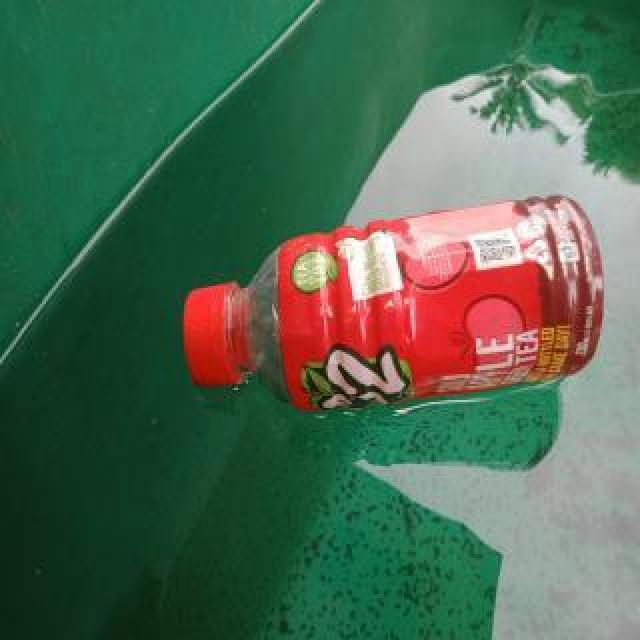bottle: (183, 197, 605, 415)
